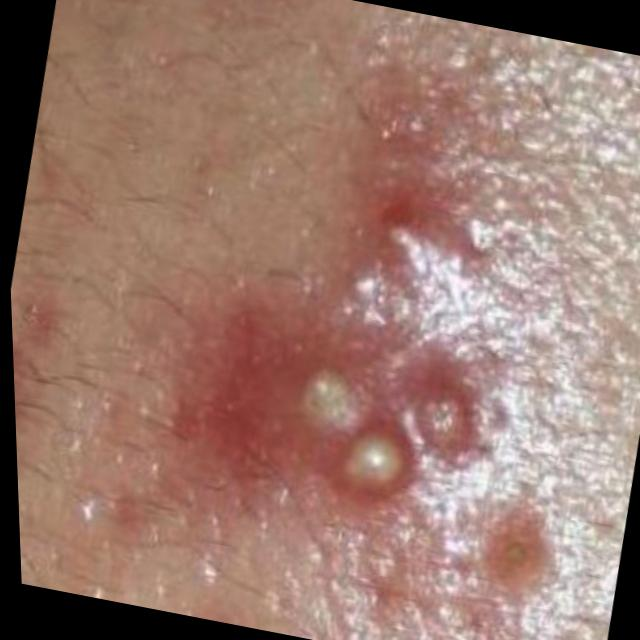pustule: (260, 305, 513, 539)
